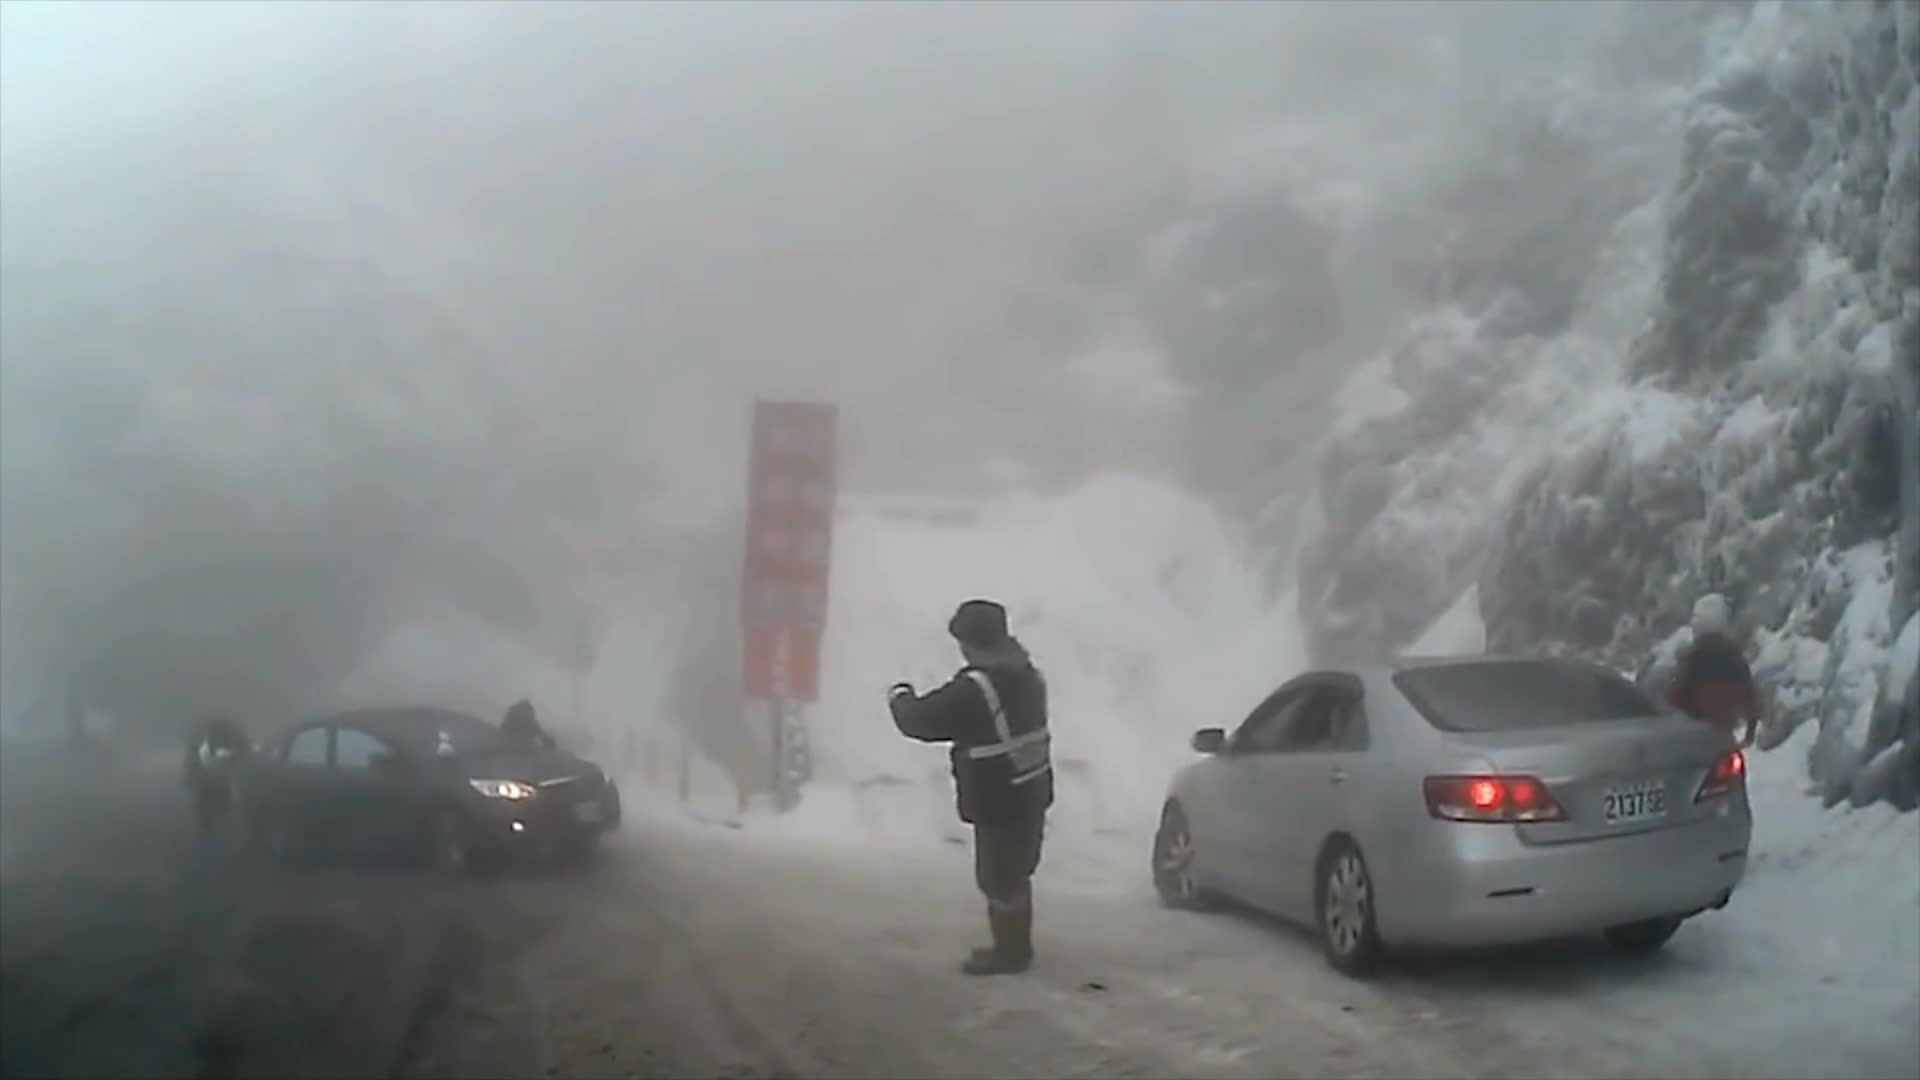pedestrian: (884, 599, 1059, 976), (1667, 598, 1761, 870), (191, 719, 254, 829)
vehicle: (1149, 651, 1752, 976), (234, 704, 620, 875)
